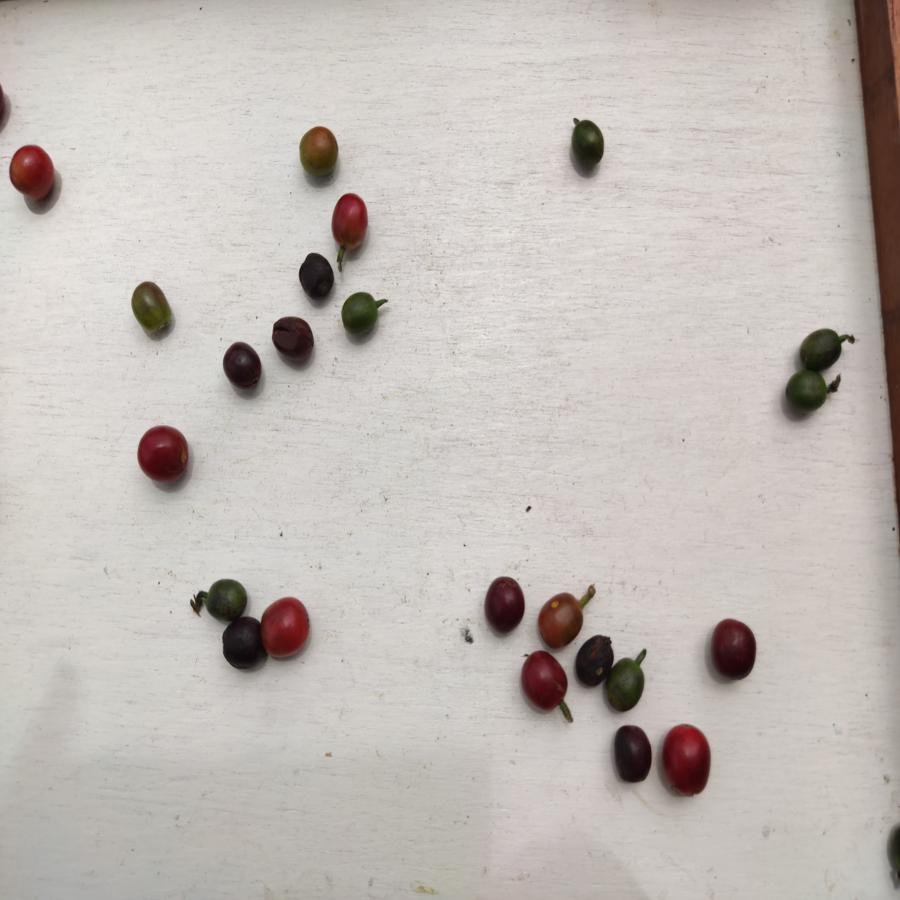Inmaduro: (785, 367, 830, 412), (796, 329, 844, 371), (338, 289, 381, 335), (612, 656, 647, 711), (205, 577, 247, 620), (572, 118, 605, 172)
Maduro: (659, 722, 710, 800), (133, 425, 191, 483), (7, 143, 58, 204), (262, 596, 310, 658), (329, 193, 369, 248)
Pinton: (538, 591, 583, 651), (127, 277, 171, 332), (298, 126, 338, 180)
Sobremaduro: (520, 653, 573, 709), (708, 617, 757, 677), (611, 725, 654, 785), (219, 341, 268, 393), (483, 577, 523, 632), (223, 620, 266, 670), (272, 314, 319, 358), (574, 633, 607, 685), (297, 253, 333, 299)
